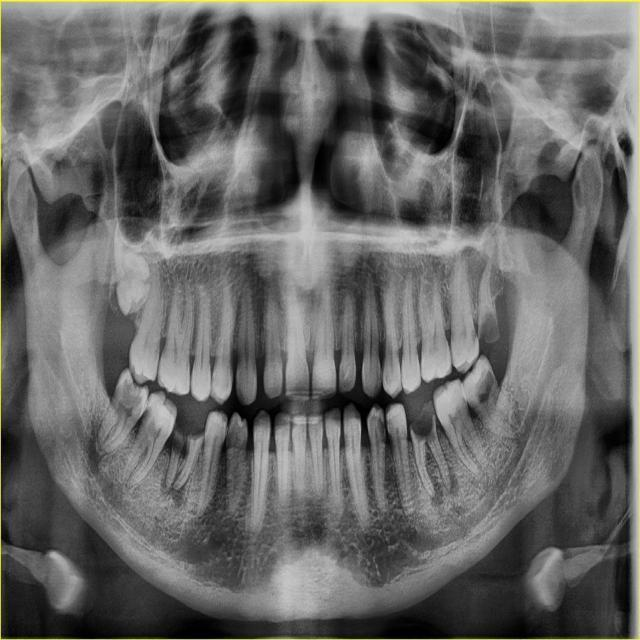Caries: (120, 375, 145, 412), (474, 370, 495, 406), (378, 410, 385, 446), (142, 403, 152, 424), (471, 323, 479, 344), (374, 366, 381, 386), (387, 415, 392, 434)
Periapical lesion: (428, 470, 444, 508), (170, 470, 186, 508), (513, 404, 531, 436), (442, 464, 458, 496), (160, 470, 175, 496), (503, 426, 523, 443), (129, 483, 143, 499)
Root Piece: (422, 395, 452, 494), (407, 410, 437, 500), (477, 265, 502, 345), (171, 432, 204, 489), (165, 425, 185, 487)
impacted tooth: (113, 229, 150, 317)
